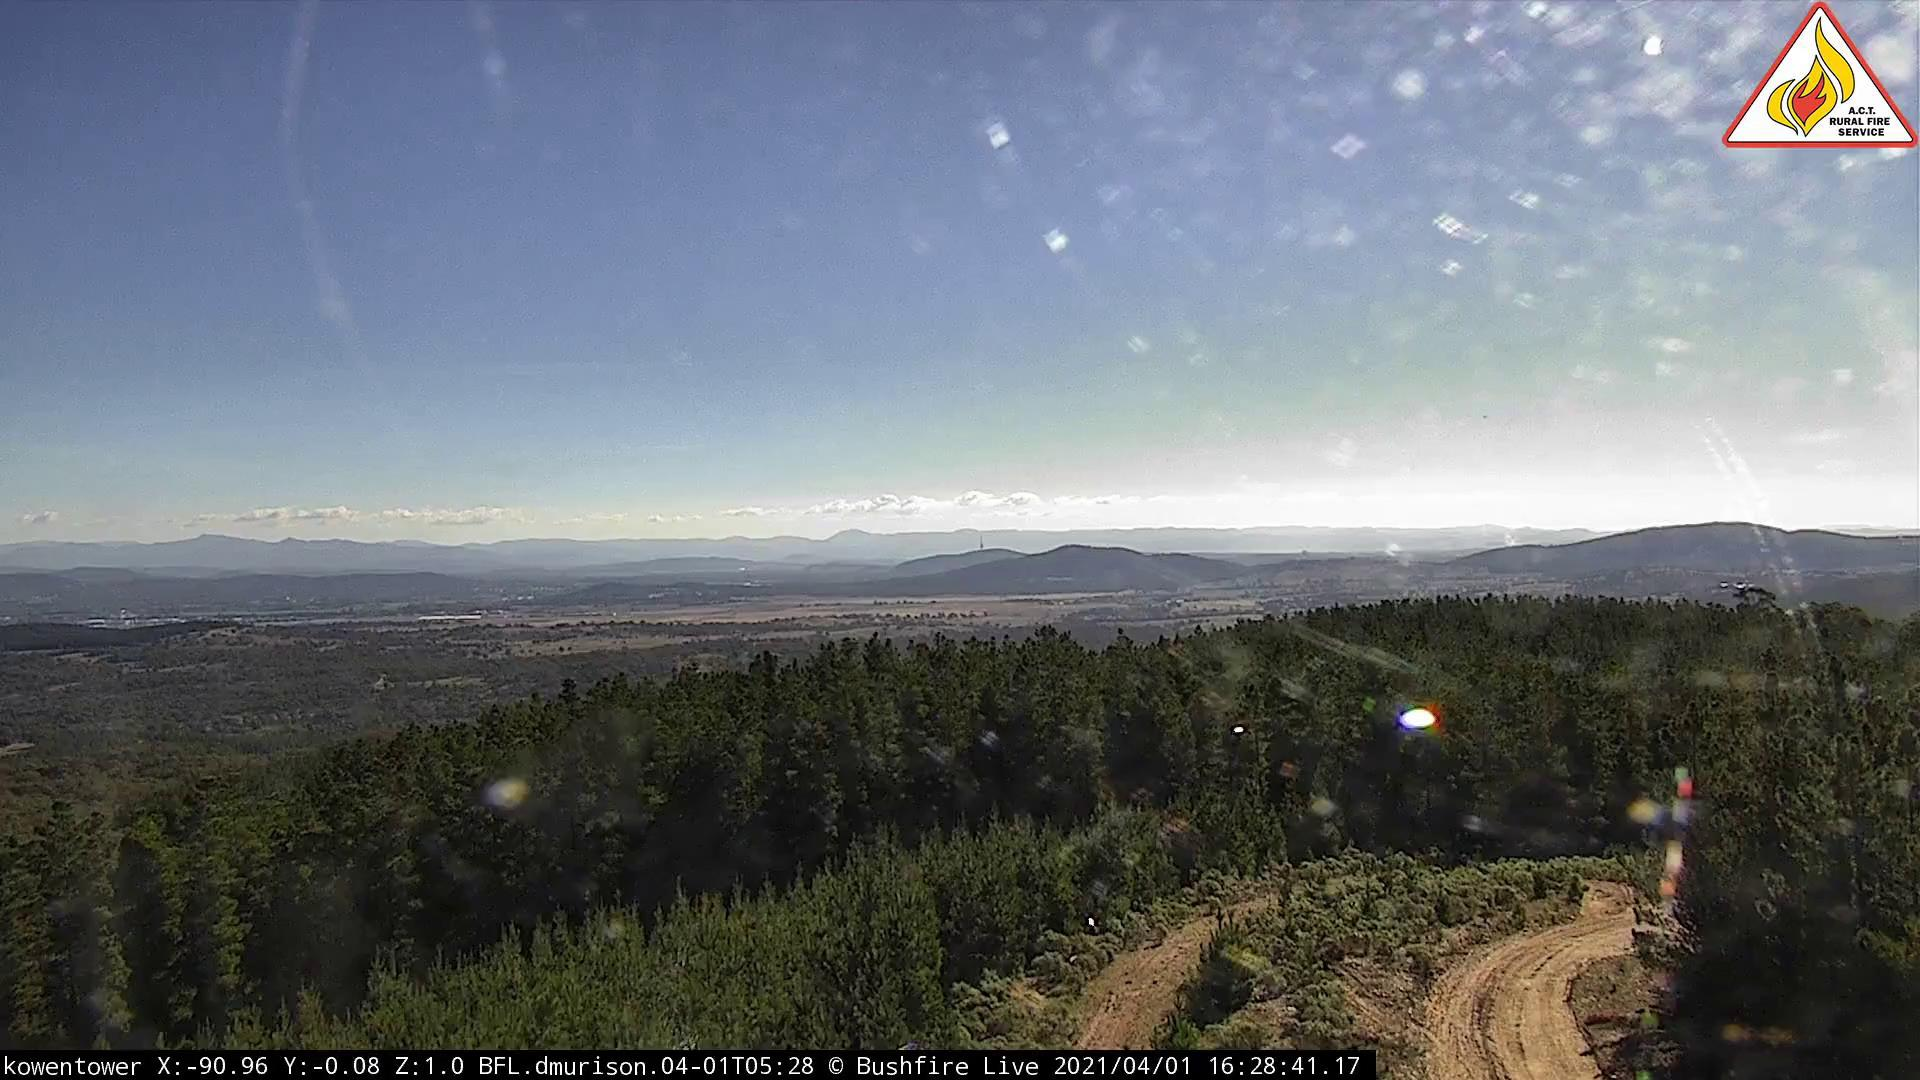Smoke: (1498, 525, 1535, 551)
